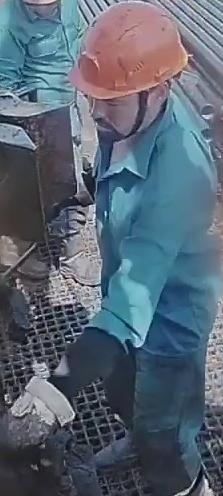gloves: (1, 374, 74, 455)
helmet: (67, 0, 188, 99)
vest: (94, 128, 223, 360), (0, 0, 83, 115)
